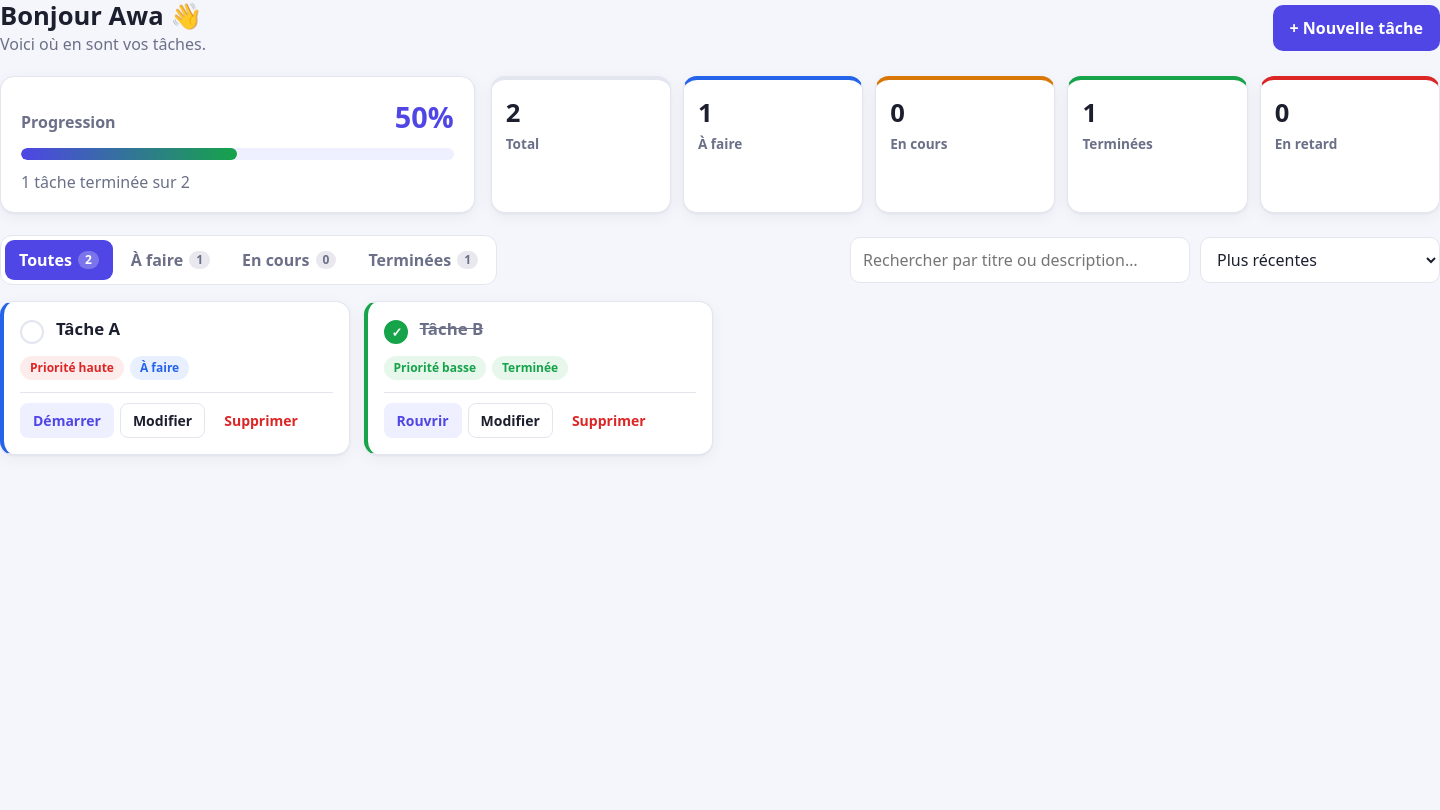
Test: Dashboard › ouvre la modale de création et crée une tâche
The image size is (1440, 810).
Expected: the heading "Tâche A" is shown, [56,318,120,339]
Click the button "+ Nouvelle tâche" at (1356, 28), box [1272,5,1439,51]
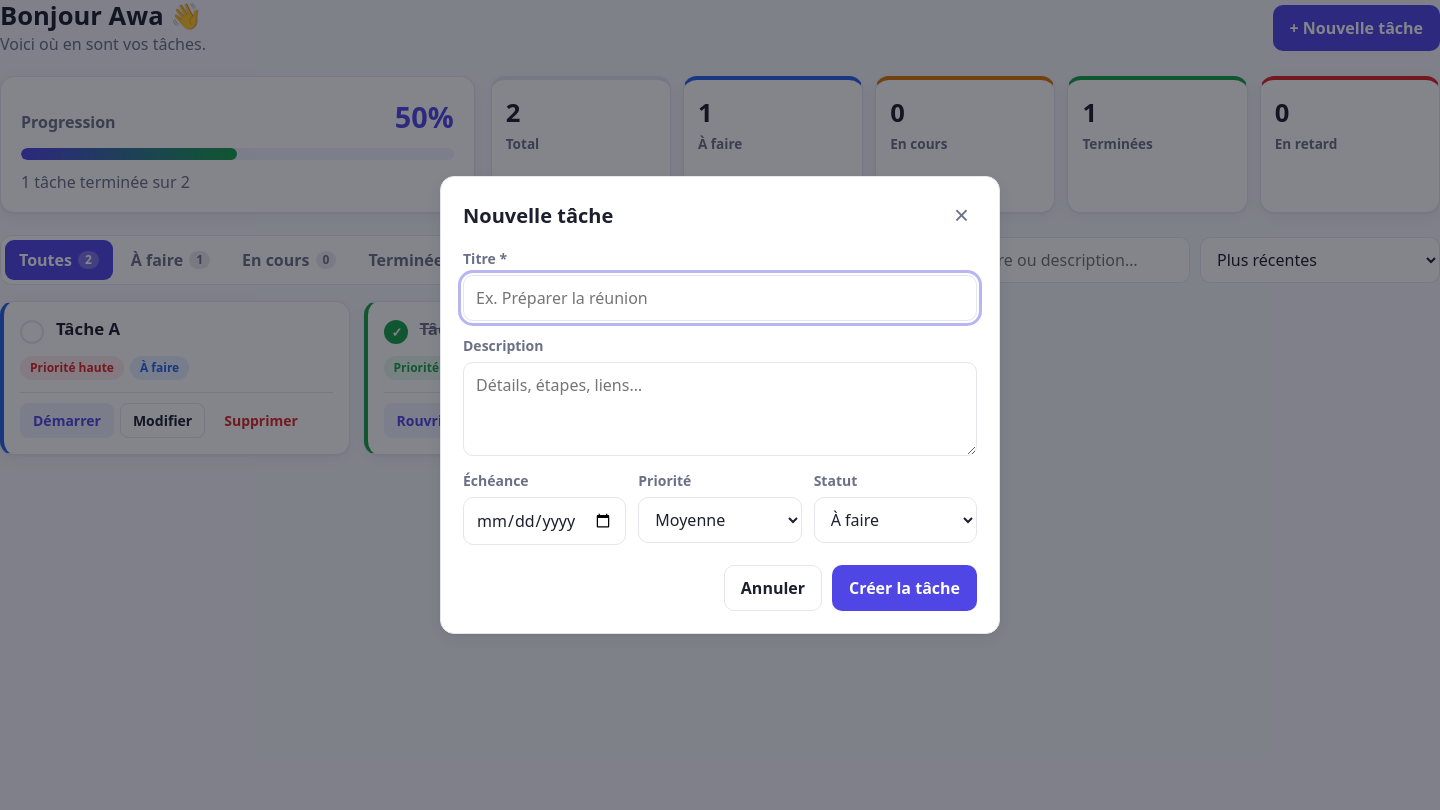
Type "Nouvelle" into the field labelled "Titre *" at (720, 298), box [463,275,977,321]
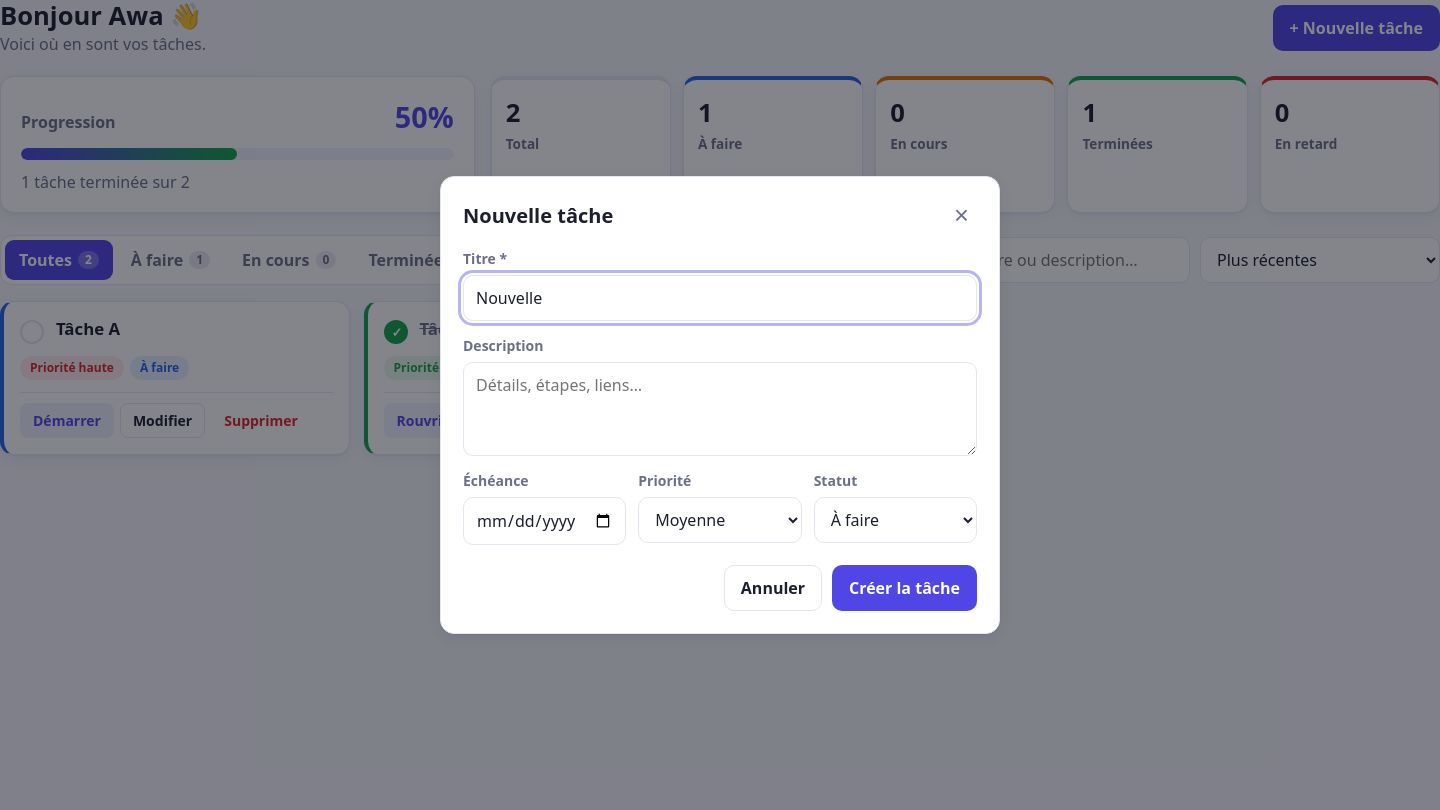
Click the button "Créer la tâche" at (904, 588), box [832,565,977,611]
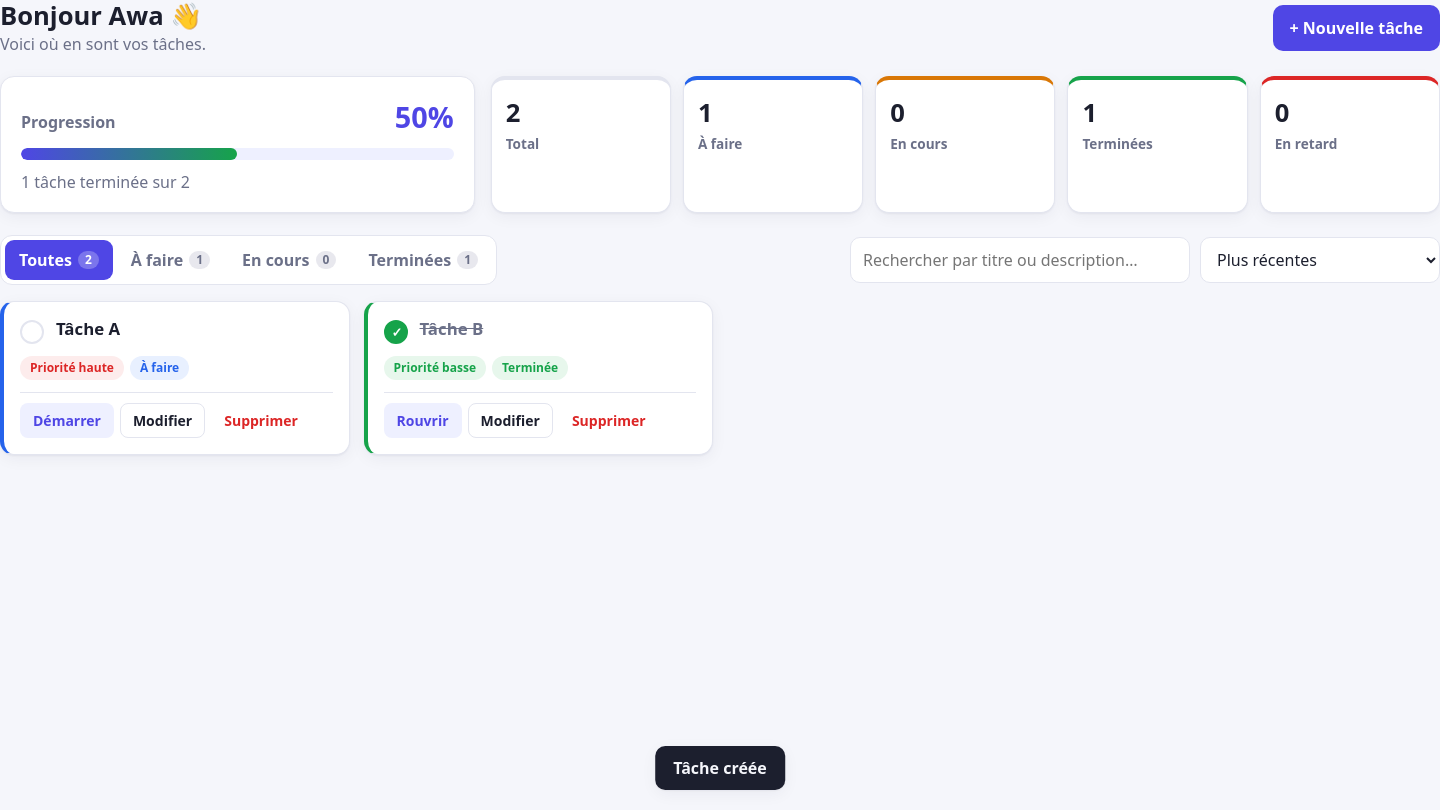
Result: the dialog is gone
